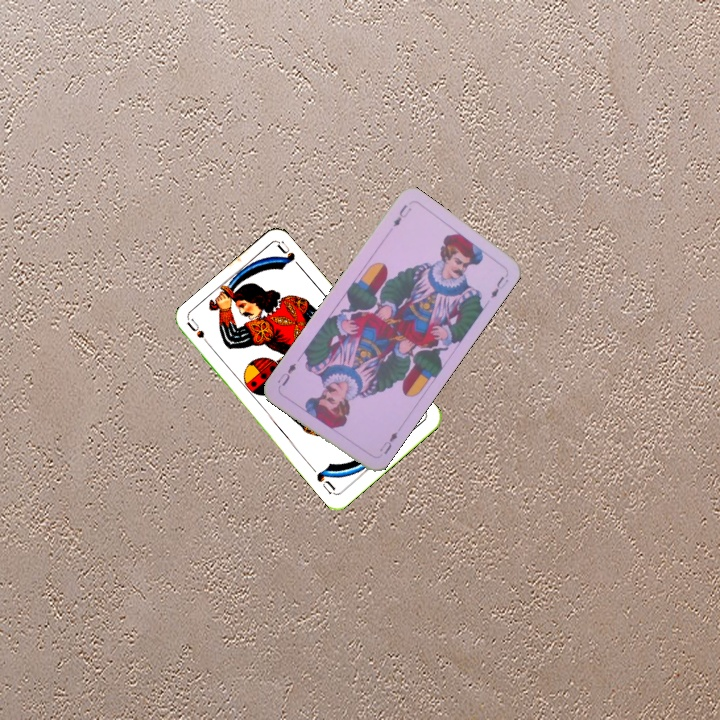EU: (375, 428, 401, 457), (389, 200, 414, 230)
SU: (183, 316, 216, 351)
